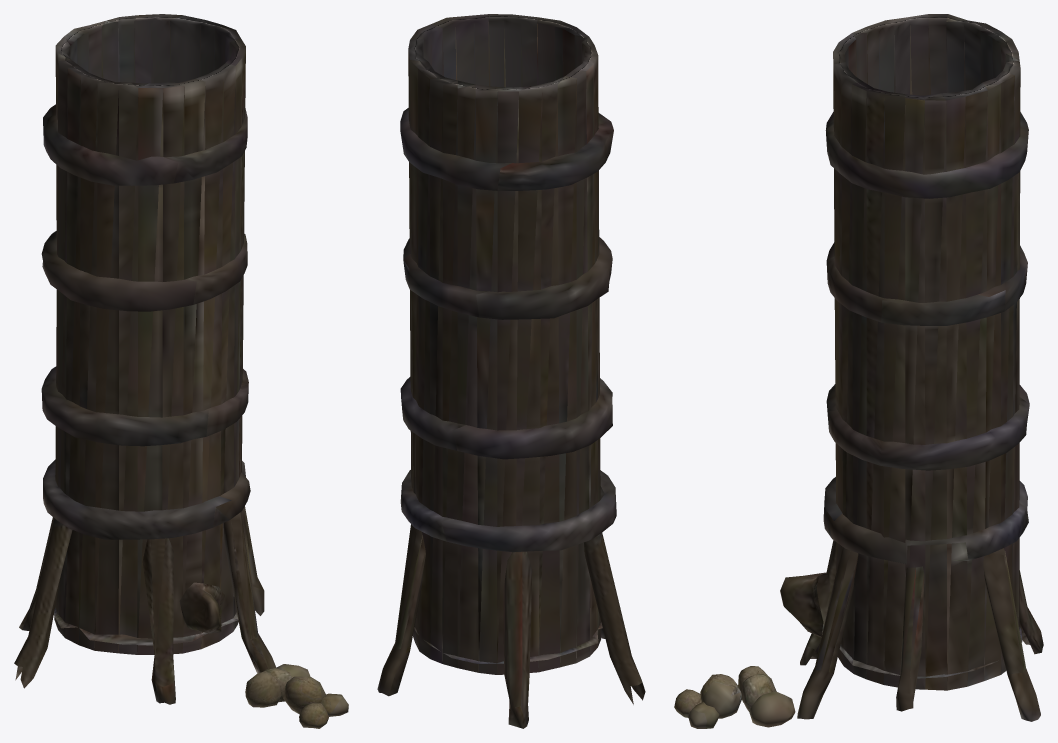
File: mt_silo.glb
The picture shows the model from 3 angles, left to right: view 1: azimuth 30°, elevation 25°; view 2: azimuth 150°, elevation 25°; view 3: azimuth 270°, elevation 25°; orthographic projection. The views are drawn at different scales.
Parts seen in each view (by area): view 1: Mesh_0.995; view 2: Mesh_0.995; view 3: Mesh_0.995.
Boxes of the visible parts, bbox=[...] form: Mesh_0.995: bbox=[14, 14, 348, 728]; Mesh_0.995: bbox=[377, 14, 645, 728]; Mesh_0.995: bbox=[674, 14, 1043, 728].
Bounding box in the file's own units: 0.1504 × 0.3665 × 0.1943.
1 material, 1 textured.
